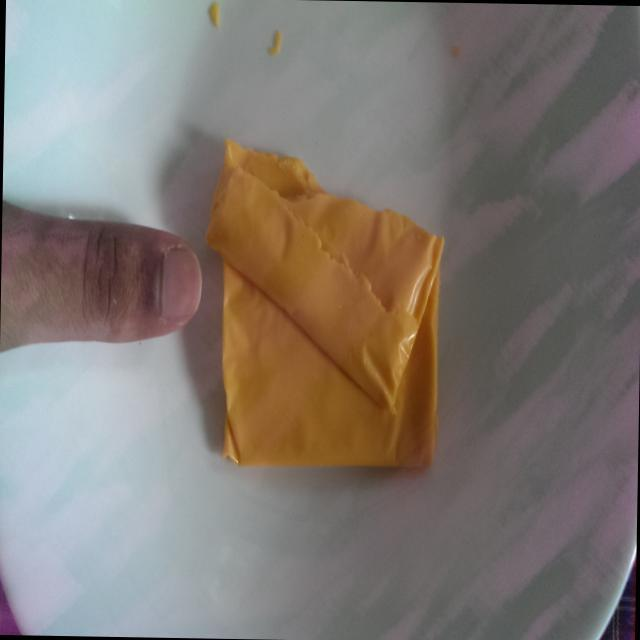Cheese: (200, 122, 450, 490)
Finger: (48, 202, 208, 372)
